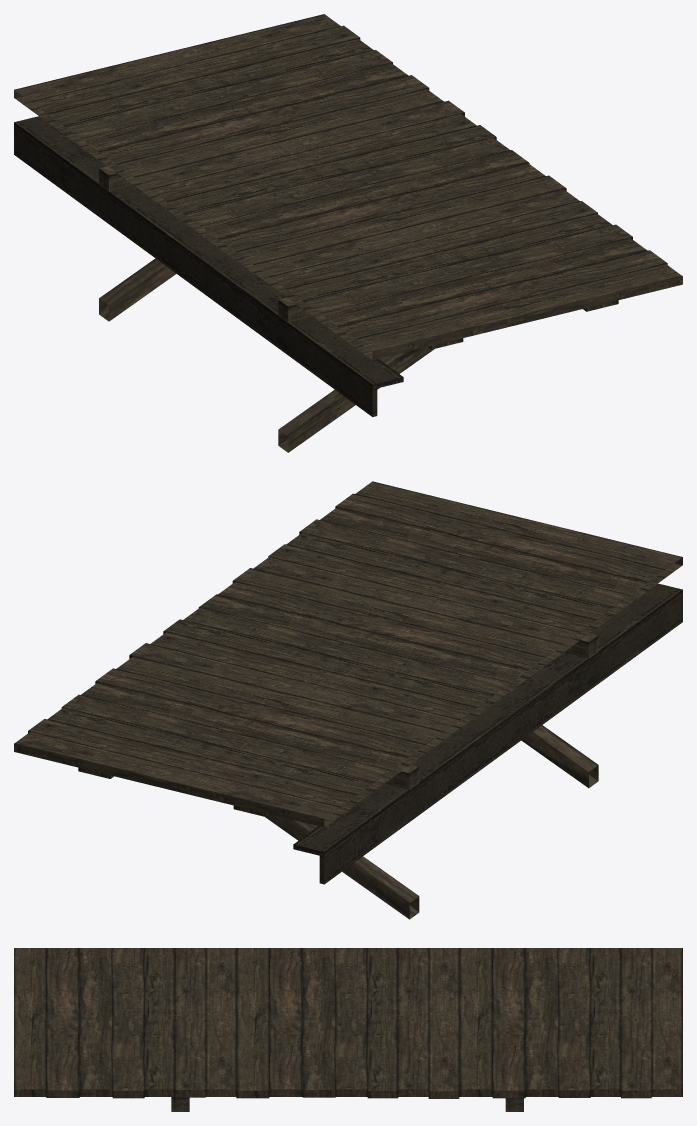
Rendered from platform_ax_1.dae.
The picture shows the model from 3 angles, top to bottom: view 1: azimuth 30°, elevation 25°; view 2: azimuth 150°, elevation 25°; view 3: azimuth 270°, elevation 25°; orthographic projection. The views are drawn at different scales.
Visible parts, largest first — view 1: platform_ax_1; view 2: platform_ax_1; view 3: platform_ax_1.
Boxes of the visible parts, bbox=[...] form: platform_ax_1: bbox=[14, 14, 682, 452]; platform_ax_1: bbox=[14, 481, 682, 919]; platform_ax_1: bbox=[14, 948, 682, 1111].
Bounding box in the file's own units: 2.03 × 4 × 1.
Materials: 2 (2 with a texture image).
